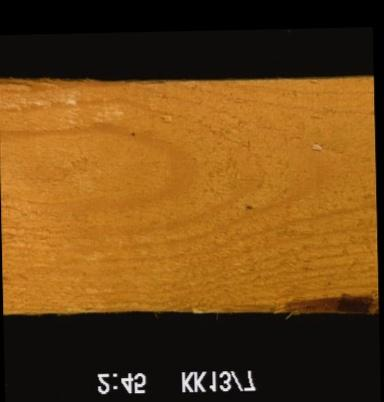small_knot: (242, 201, 253, 213)
wave: (282, 293, 375, 315)
